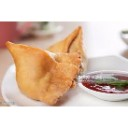samosa: (5, 40, 83, 104), (52, 25, 85, 73)
